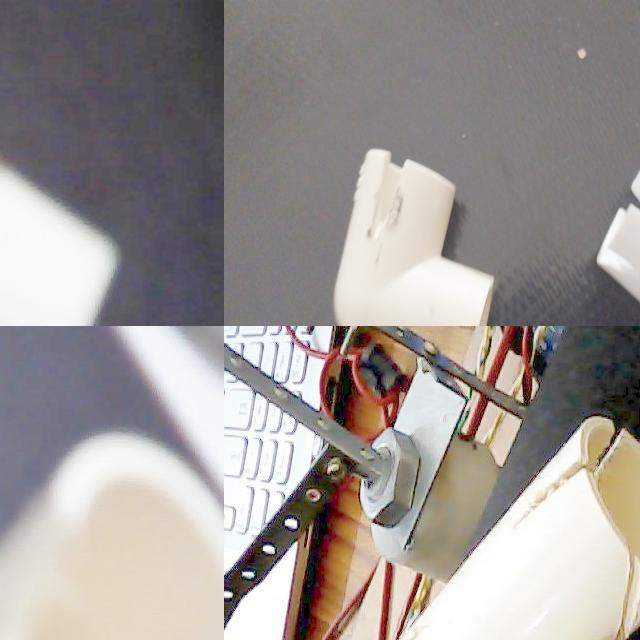Defective: (18, 524, 141, 640), (510, 458, 612, 552), (462, 124, 538, 193), (611, 532, 640, 640), (601, 423, 635, 467)
L Joint: (359, 92, 540, 308)
T Joint: (397, 418, 640, 640)
